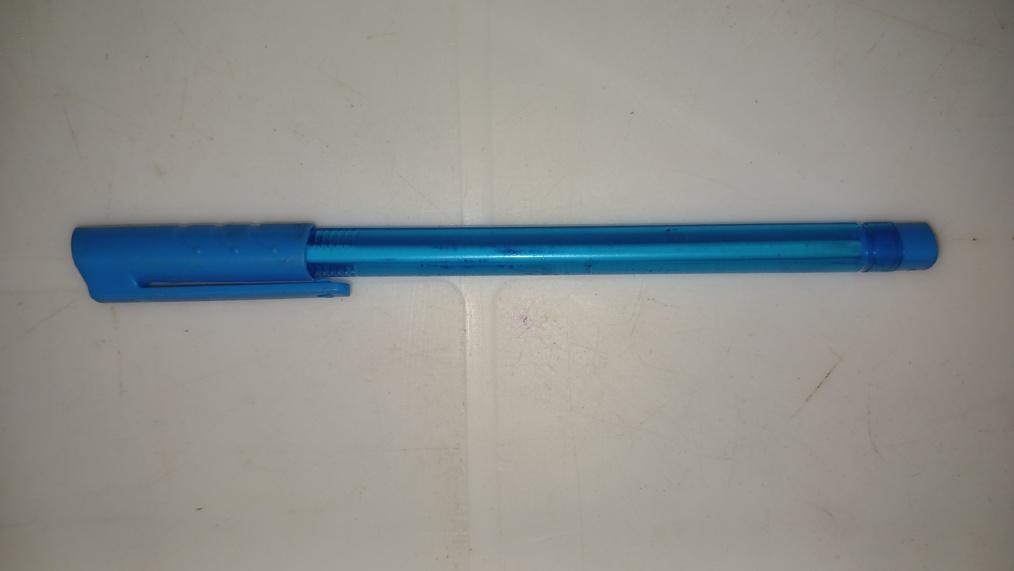pen: (69, 219, 943, 306)
